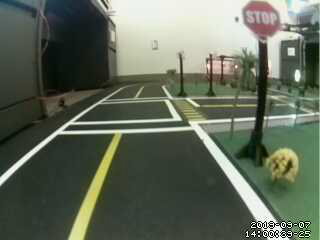Stop_Sign: (237, 1, 288, 38)
